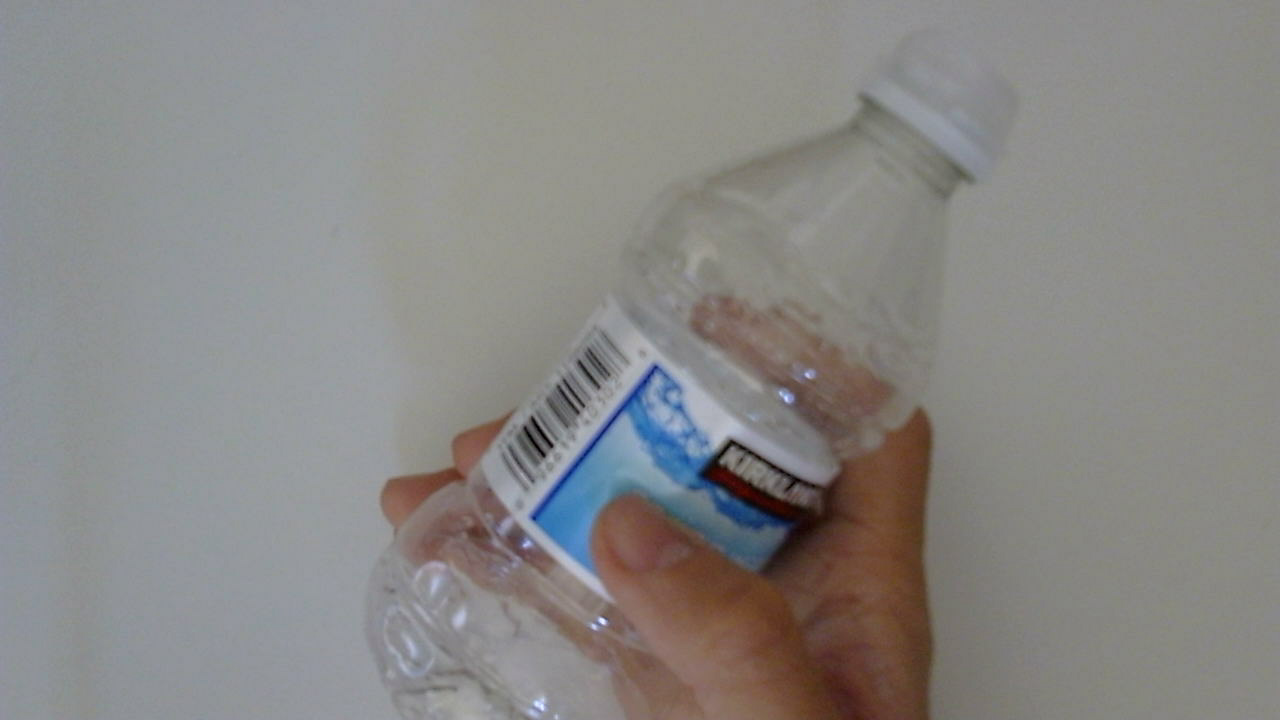Plastic Bottle: (360, 25, 1030, 720)
